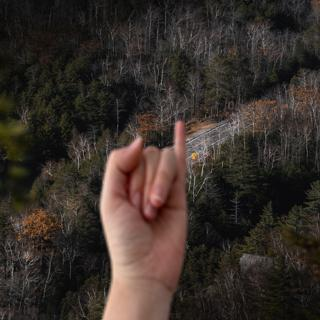Fine: (80, 113, 211, 309)
